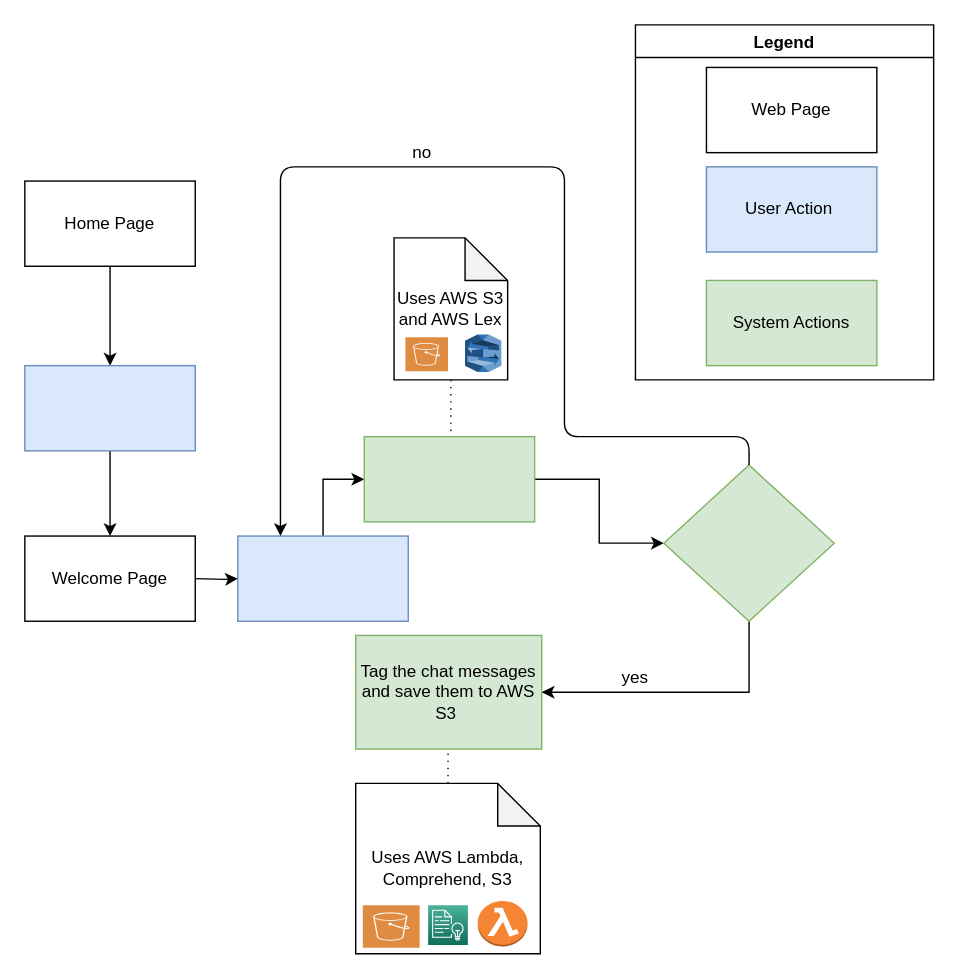
This 959x980 diagram has some shape labels left out. Here are the shapes that lost their labels. From the top down, the centre of each, then its label:
(x=109, y=407): User Logs in
(x=449, y=478): Fetch all chats from AWS Lex & save to AWS S3
(x=748, y=542): checks if S3 bucket contains the files
(x=322, y=578): User clicks on "Sentiment Analysis" button
